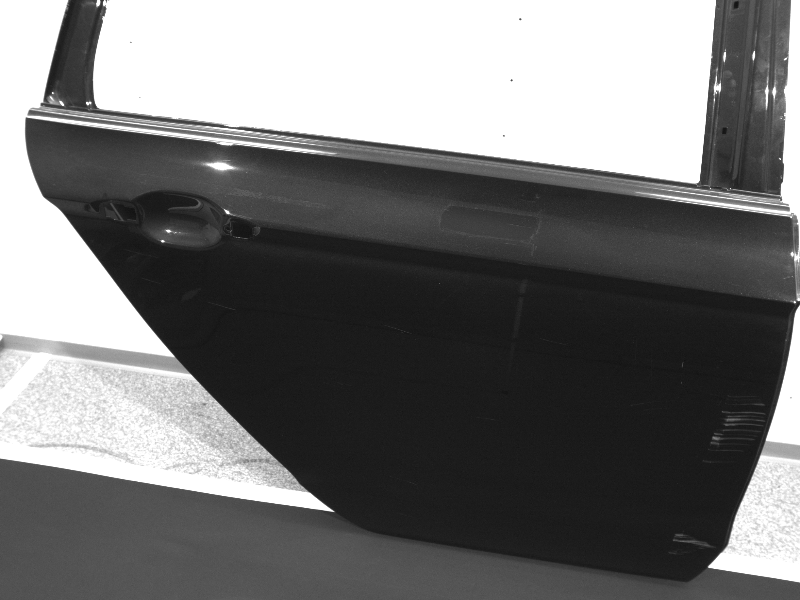scratch: (701, 393, 769, 464), (666, 532, 715, 555), (391, 475, 418, 486), (123, 246, 149, 257), (387, 325, 414, 335), (209, 302, 237, 311), (541, 338, 569, 345), (471, 415, 496, 422), (141, 278, 162, 285), (680, 359, 685, 386)
